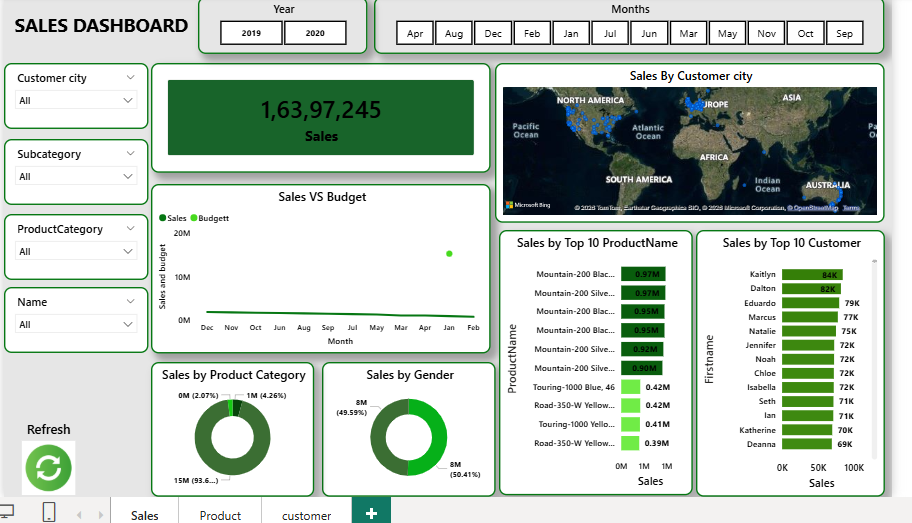

This screenshot's page, from the dashboard's own definition file:
{"tool":"powerbi","page":{"name":"Sales","canvas":[1280,720],"ordinal":0},"visuals":[{"type":"textbox","box":[10.1,0,268.8,95.7],"z":0},{"type":"cardVisual","fields":{"Data":["FactInternetSales.Sales"]},"box":[212.1,95.5,489.4,157.6],"z":1000},{"type":"slicer","title":"Year","fields":{"Values":["DimDate.Year"]},"box":[278.8,0,243.9,81.8],"z":2000},{"type":"slicer","title":"Months","fields":{"Values":["DimDate.MonthShort"]},"box":[533.3,0,734.8,81.8],"z":3000},{"type":"lineChart","title":"Sales VS Budget","fields":{"Category":["DimDate.MonthShort"],"Y":["FactInternetSales.Sales","FactInternetSales.Budgett"]},"box":[212.1,269.7,489.4,243.9],"z":4000},{"type":"map","title":"Sales By Customer city","fields":{"Category":["DimCustomer.Customer city"]},"box":[707.6,95.5,560.6,230.3],"z":5000},{"type":"donutChart","fields":{"Series":["DimCustomer.Gender"],"Y":["FactInternetSales.Sales"]},"box":[457.6,525.8,250,193.9],"z":8000},{"type":"donutChart","title":"Sales by Product Category","fields":{"Y":["FactInternetSales.Sales"],"Series":["DimProduct.ProductCategory"]},"box":[212.1,525.8,234.8,193.9],"z":9000},{"type":"slicer","fields":{"Values":["DimCustomer.Customer city"]},"box":[0,95.5,207.6,95.5],"z":10000},{"type":"slicer","fields":{"Values":["DimProduct.ProductCategory"]},"box":[0,312.1,207.6,95.5],"z":11000},{"type":"slicer","fields":{"Values":["DimProduct.Subcategory"]},"box":[0,204.5,207.6,95.5],"z":12000},{"type":"slicer","fields":{"Values":["DimCustomer.Firstname"]},"box":[0,418.2,207.6,95.5],"z":13000},{"type":"barChart","title":"Sales by Top 10 ProductName","fields":{"Category":["DimProduct.ProductName"],"Y":["FactInternetSales.Sales"]},"box":[712.8,335.5,279.4,381.6],"z":13003},{"type":"barChart","title":"Sales by Top 10 Customer","fields":{"Y":["FactInternetSales.Sales"],"Category":["DimCustomer.Firstname"]},"box":[996.5,335.5,272.2,384.5],"z":13004},{"type":"image","title":"Refresh","box":[18.2,609.1,90.9,107.6],"z":13005}]}

Visuals, with their boxes in screenshot pixels (x1, y1, x2, y2):
textbox: {"left": 5, "top": 0, "right": 194, "bottom": 55}
cardVisual - FactInternetSales.Sales: {"left": 147, "top": 55, "right": 491, "bottom": 166}
"Year" slicer: {"left": 194, "top": 0, "right": 365, "bottom": 46}
"Months" slicer: {"left": 372, "top": 0, "right": 889, "bottom": 46}
"Sales VS Budget" lineChart: {"left": 147, "top": 178, "right": 491, "bottom": 349}
"Sales By Customer city" map: {"left": 495, "top": 55, "right": 889, "bottom": 217}
donutChart - DimCustomer.Gender x FactInternetSales.Sales: {"left": 319, "top": 358, "right": 495, "bottom": 494}
"Sales by Product Category" donutChart: {"left": 147, "top": 358, "right": 312, "bottom": 494}
slicer - DimCustomer.Customer city: {"left": 0, "top": 55, "right": 143, "bottom": 122}
slicer - DimProduct.ProductCategory: {"left": 0, "top": 207, "right": 143, "bottom": 275}
slicer - DimProduct.Subcategory: {"left": 0, "top": 132, "right": 143, "bottom": 199}
slicer - DimCustomer.Firstname: {"left": 0, "top": 282, "right": 143, "bottom": 349}
"Sales by Top 10 ProductName" barChart: {"left": 498, "top": 224, "right": 695, "bottom": 492}
"Sales by Top 10 Customer" barChart: {"left": 698, "top": 224, "right": 889, "bottom": 494}
"Refresh" image: {"left": 10, "top": 416, "right": 74, "bottom": 492}
